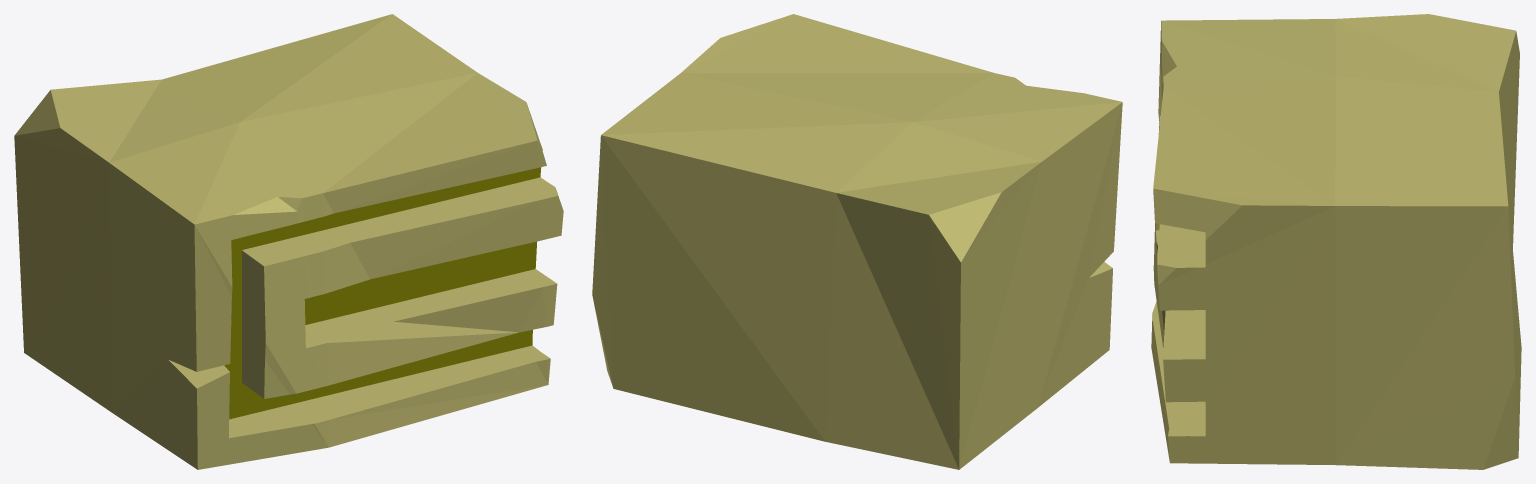
File: Prop_Jungle_Temple_Pillar_Block_Markings_04.FBX
The picture shows the model from 3 angles, left to right: view 1: azimuth 30°, elevation 25°; view 2: azimuth 150°, elevation 25°; view 3: azimuth 270°, elevation 25°; orthographic projection. The views are drawn at different scales.
Visible parts, largest first — view 1: Prop_Jungle_Temple_Pillar_Block_Markings_04; view 2: Prop_Jungle_Temple_Pillar_Block_Markings_04; view 3: Prop_Jungle_Temple_Pillar_Block_Markings_04.
Boxes of the visible parts, x1,y1,x2,y2 form: Prop_Jungle_Temple_Pillar_Block_Markings_04: (14, 14, 563, 469); Prop_Jungle_Temple_Pillar_Block_Markings_04: (592, 14, 1122, 469); Prop_Jungle_Temple_Pillar_Block_Markings_04: (1151, 14, 1521, 469).
Bounding box in the file's own units: 2317 × 1523 × 1886.
